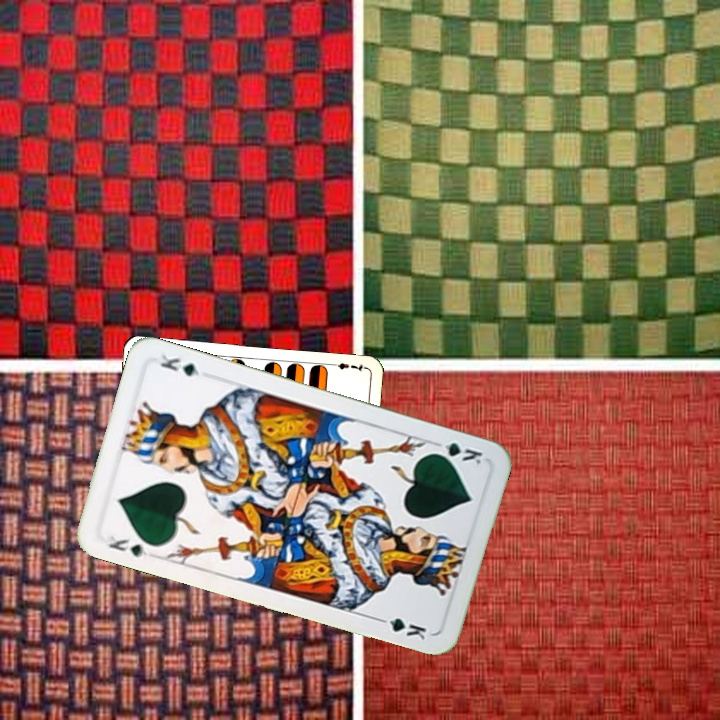E7: (326, 358, 367, 374)
GK: (427, 437, 485, 469), (101, 531, 151, 560)
